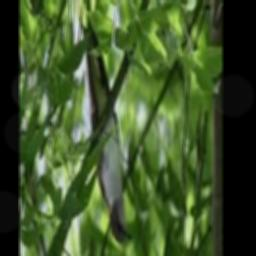Cuckoo: (67, 0, 131, 244)
